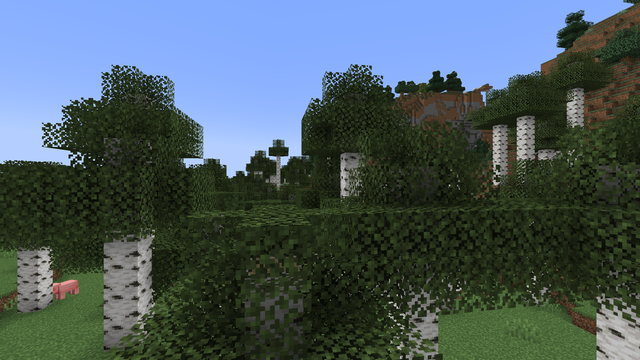cochons: (54, 279, 77, 299)
